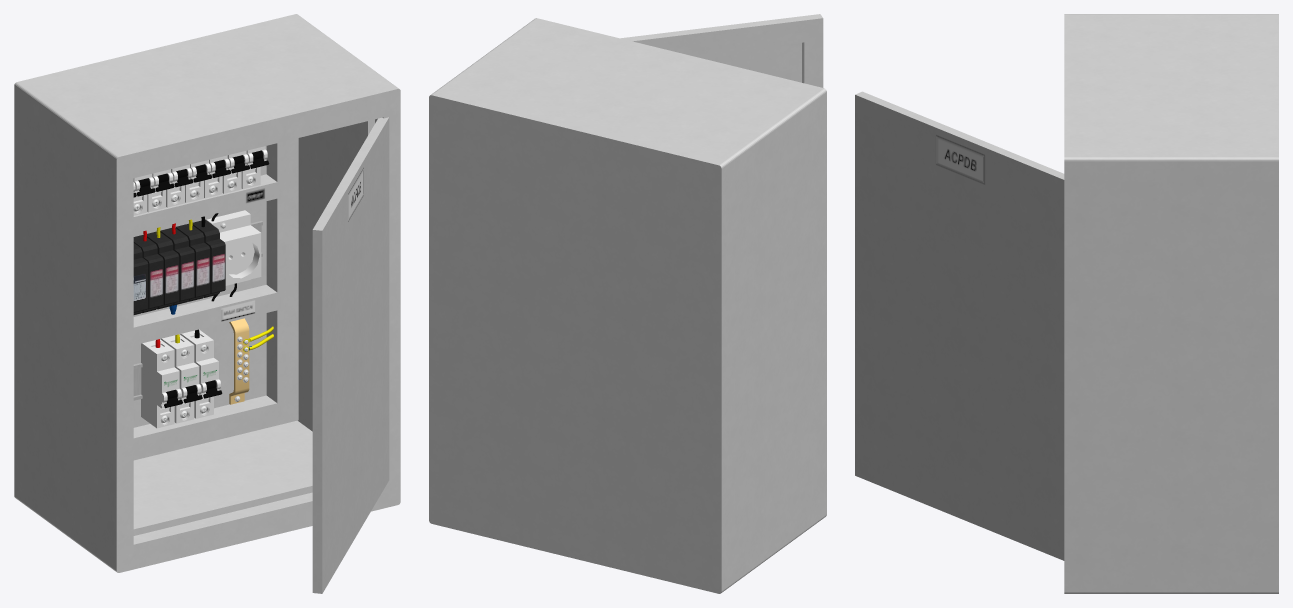
File: ACPDB Model.fbx
3 renders of one model, left to right at view 1: azimuth 30°, elevation 25°; view 2: azimuth 150°, elevation 25°; view 3: azimuth 270°, elevation 25°, orthographic. The views are drawn at different scales.
Parts seen in each view (by area): view 1: Cube.002, Cube.003, Cube, Cube.004, Cube.010, Cube.001, Cylinder.007, Cube.006, Plane.003, Cube.005, Cube.007; view 2: Cube.002, Cube.003; view 3: Cube.002, Cube.003.
Part boxes in pixels (x1,y1,x2,y2): Cube.002: [14, 14, 400, 572]; Cube.003: [312, 117, 389, 593]; Cube: [133, 138, 298, 460]; Cube.004: [133, 220, 225, 312]; Cube.010: [141, 329, 220, 428]; Cube.001: [133, 146, 267, 215]; Cylinder.007: [206, 210, 261, 285]; Cube.006: [133, 150, 269, 197]; Plane.003: [229, 318, 249, 404]; Cube.005: [133, 243, 148, 314]; Cube.007: [164, 380, 222, 408]; Cube.002: [429, 18, 826, 593]; Cube.003: [620, 14, 823, 87]; Cube.002: [1064, 14, 1278, 593]; Cube.003: [855, 91, 1064, 560].
Size of the model in its own units: 102 by 143 by 126.
Materials: 4 (4 with a texture image).
